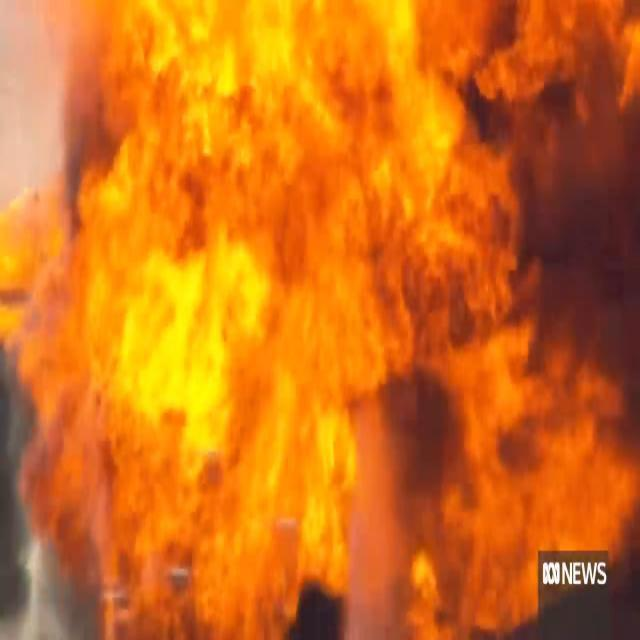fire: (363, 4, 640, 547), (20, 229, 308, 623), (66, 0, 362, 276), (306, 278, 522, 588)
